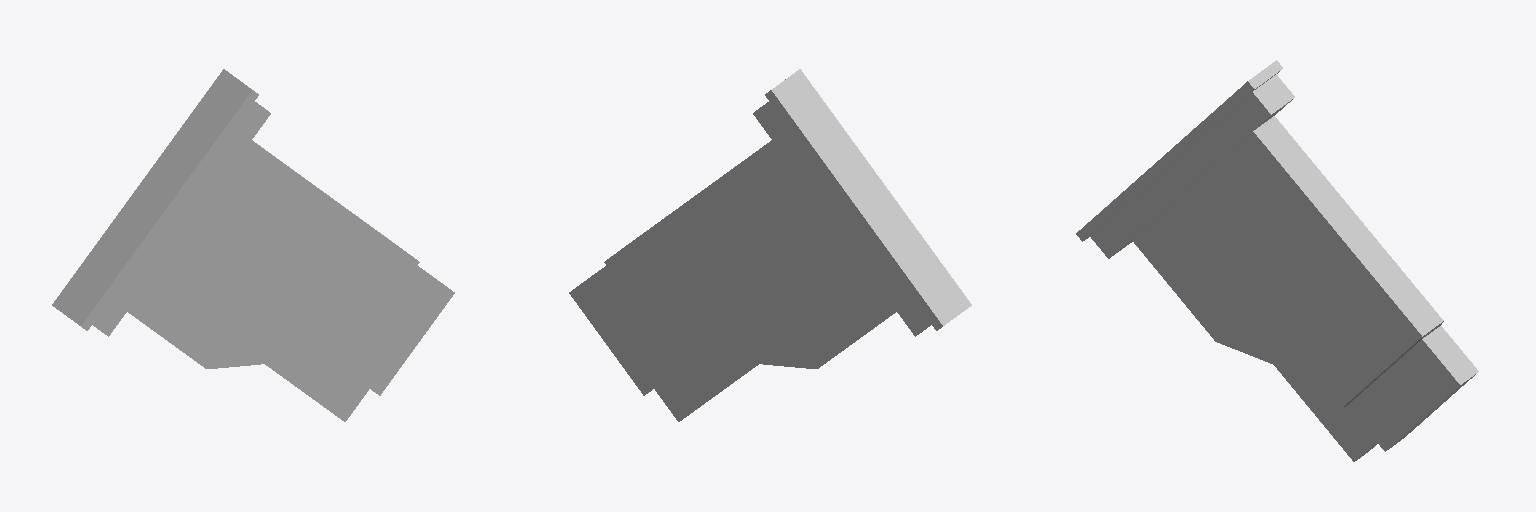
File: Collectible_Board_Cube.obj
The picture shows the model from 3 angles: view 1: azimuth 30°, elevation 25°; view 2: azimuth 150°, elevation 25°; view 3: azimuth 330°, elevation 25°; orthographic projection.
Visible parts, largest first — view 1: Collectible_Board_Cube.002; view 2: Collectible_Board_Cube.002; view 3: Collectible_Board_Cube.002.
Boxes of the visible parts, box(x1,y1,x2,y2) form: Collectible_Board_Cube.002: box(52, 69, 454, 421); Collectible_Board_Cube.002: box(569, 69, 971, 421); Collectible_Board_Cube.002: box(1076, 60, 1478, 461).
Size of the model in its own units: 0.354 by 0.3225 by 0.0468.